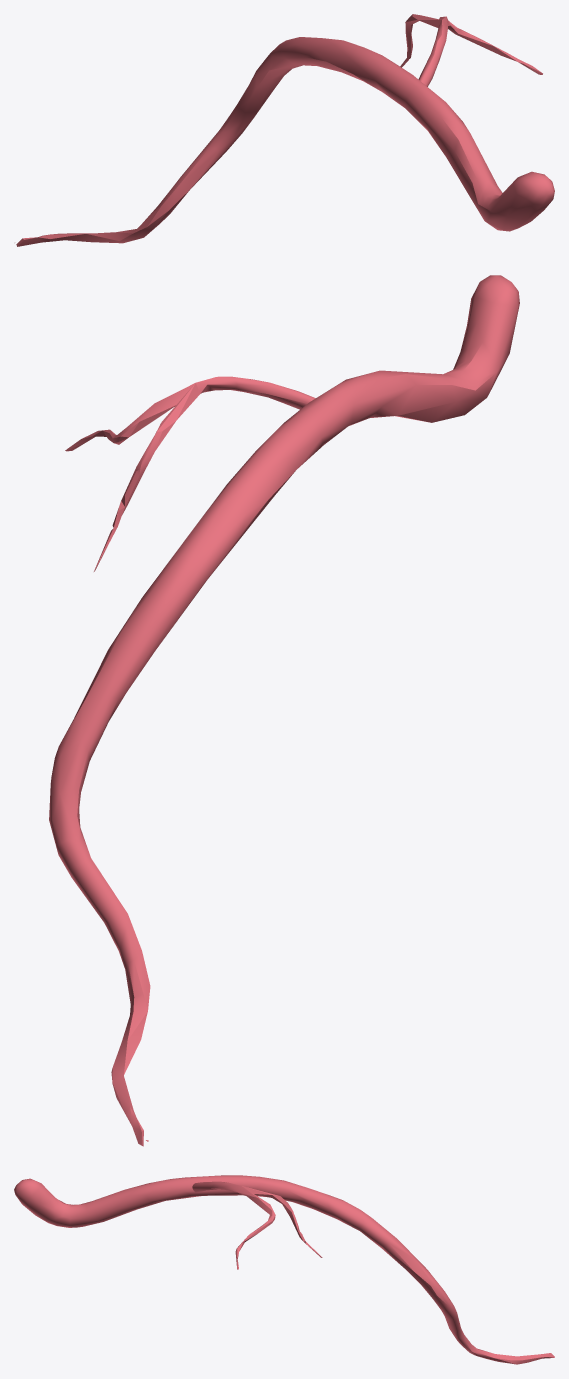
Rendered from fma51230_cx108.glb.
3 renders of one model, top to bottom at view 1: azimuth 30°, elevation 25°; view 2: azimuth 150°, elevation 25°; view 3: azimuth 270°, elevation 25°, orthographic. The views are drawn at different scales.
Visible parts, largest first — view 1: FMA51230_CX108; view 2: FMA51230_CX108; view 3: FMA51230_CX108.
Boxes of the visible parts, x1,y1,x2,y2 form: FMA51230_CX108: (16, 14, 554, 246); FMA51230_CX108: (49, 275, 519, 1146); FMA51230_CX108: (14, 1175, 554, 1364).
Size of the model in its own units: 0.0177 by 0.02 by 0.0415.
